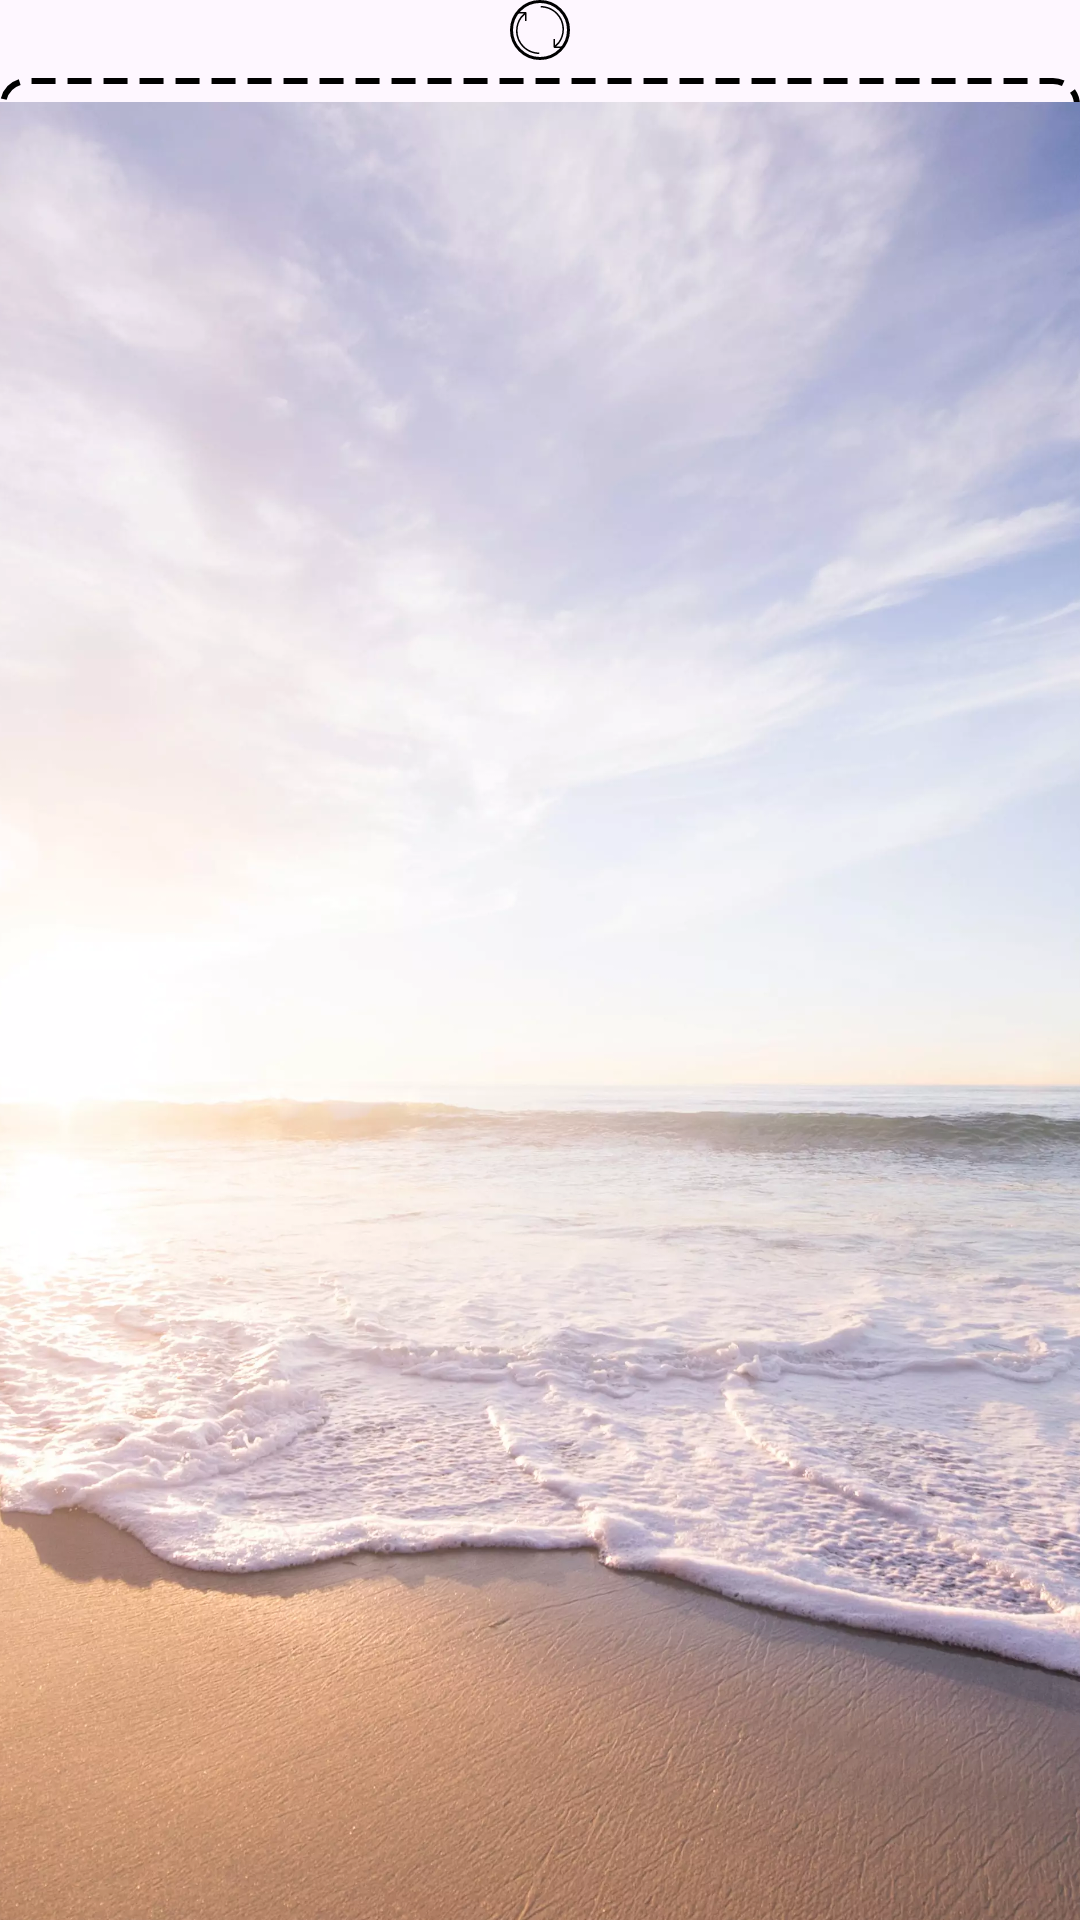

Where icons sit on this 1080w x 1920h app screen, as bbox(x1, y1, x2, y2):
arrows rotate: bbox(510, 0, 570, 60)
